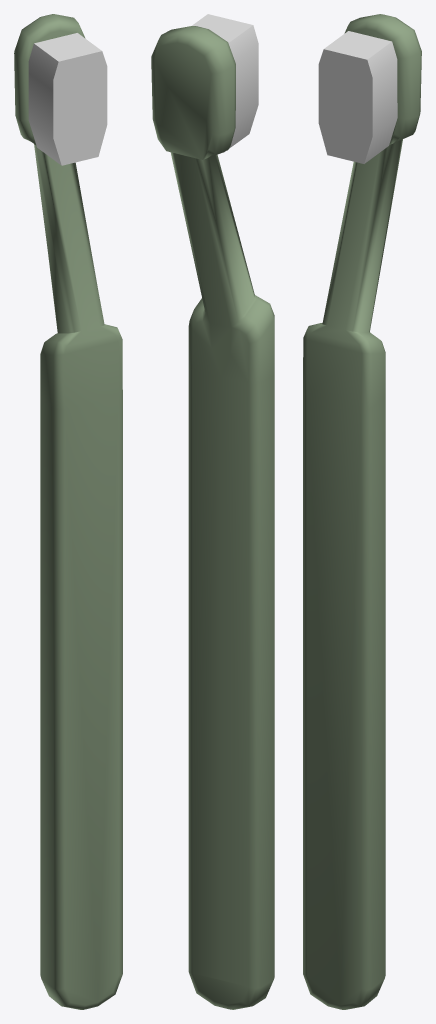
The model's file is ToothBrush.fbx.
3 renders of one model, left to right at view 1: azimuth 30°, elevation 25°; view 2: azimuth 150°, elevation 25°; view 3: azimuth 330°, elevation 25°, orthographic. The views are drawn at different scales.
Visible parts, largest first — view 1: ToothBrush; view 2: ToothBrush; view 3: ToothBrush.
Boxes of the visible parts, x1=… form: ToothBrush: x1=14, y1=14, x2=122, y2=1009; ToothBrush: x1=151, y1=14, x2=274, y2=1009; ToothBrush: x1=303, y1=14, x2=421, y2=1009.
Bounding box in the file's own units: 1.59 × 20.06 × 1.98.
